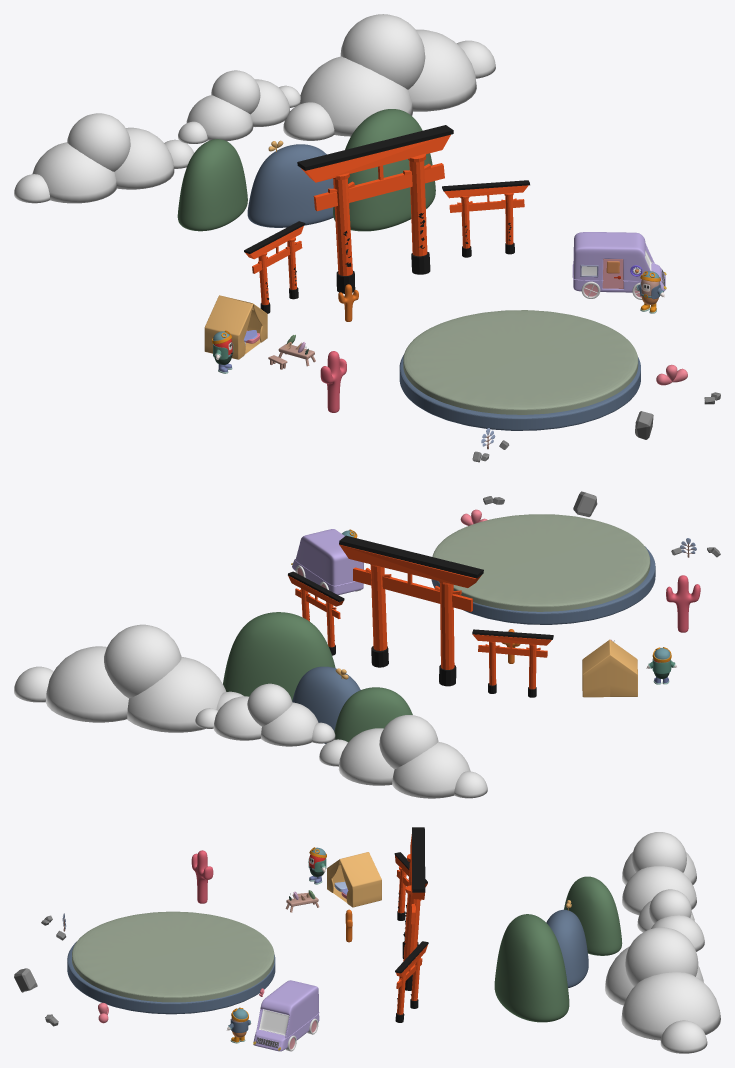
The model's file is Stage.gltf.
The picture shows the model from 3 angles, top to bottom: view 1: azimuth 30°, elevation 25°; view 2: azimuth 150°, elevation 25°; view 3: azimuth 270°, elevation 25°; orthographic projection. The views are drawn at different scales.
Visible parts, largest first — view 1: footing_02, cloud.002, cloud, Torii, cloud.001, hill_02.001, hill_01, hill_02, footing, car body, Torii.002, tent (+2 smaller); view 2: footing_02, cloud.002, cloud, Torii, hill_02, cloud.001, car body, footing, tent, hill_02.001, hill_01, Torii.001 (+2 smaller); view 3: footing_02, cloud.002, hill_02, cloud, car body, hill_02.001, footing, tent, cloud.001, Torii, hill_01, Torii.002 (+4 smaller).
Boxes of the visible parts, x1,y1,x2,y2 form: footing_02: (403, 310, 638, 414); cloud.002: (283, 14, 495, 140); cloud: (14, 113, 193, 203); Torii: (297, 125, 453, 293); cloud.001: (178, 70, 300, 143); hill_02.001: (177, 139, 247, 231); hill_01: (247, 144, 333, 227); hill_02: (333, 109, 435, 231); footing: (399, 355, 640, 430); car body: (572, 232, 665, 292); Torii.002: (442, 180, 529, 257); tent: (204, 295, 267, 359); footing_02: (432, 514, 650, 611); cloud.002: (14, 624, 243, 732); cloud: (319, 715, 487, 798); Torii: (339, 535, 483, 686); hill_02: (223, 612, 335, 700); cloud.001: (195, 683, 335, 746); car body: (292, 529, 363, 594); footing: (431, 546, 655, 624); tent: (582, 639, 637, 697); hill_02.001: (334, 687, 412, 742); hill_01: (292, 666, 360, 743); Torii.001: (472, 629, 553, 697); footing_02: (72, 911, 274, 1002); cloud.002: (605, 927, 720, 1053); hill_02: (494, 914, 569, 1022); cloud: (622, 832, 696, 915); car body: (253, 980, 319, 1051); hill_02.001: (564, 876, 622, 955); footing: (67, 941, 275, 1014); tent: (327, 852, 381, 907); cloud.001: (637, 889, 704, 951); Torii: (402, 827, 425, 990); hill_01: (546, 909, 588, 988); Torii.002: (395, 941, 428, 1022).
Bounding box in the file's own units: 23.73 × 6.27 × 34.15.
